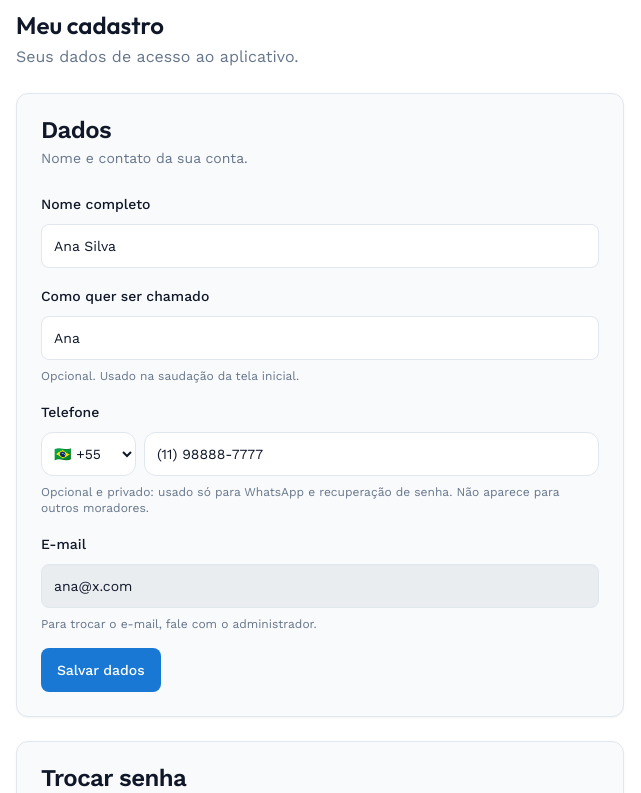
MyProfilePage — dados › não salva sem nome
Clear the field labelled "Nome completo": (320, 246) [41,224,599,268]
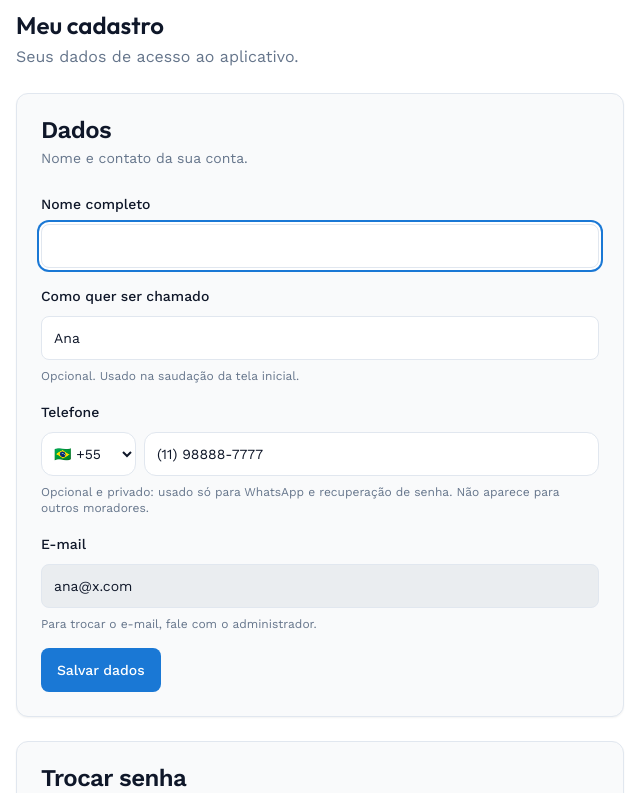
Click the button "Salvar dados": (101, 670) [41,648,161,692]
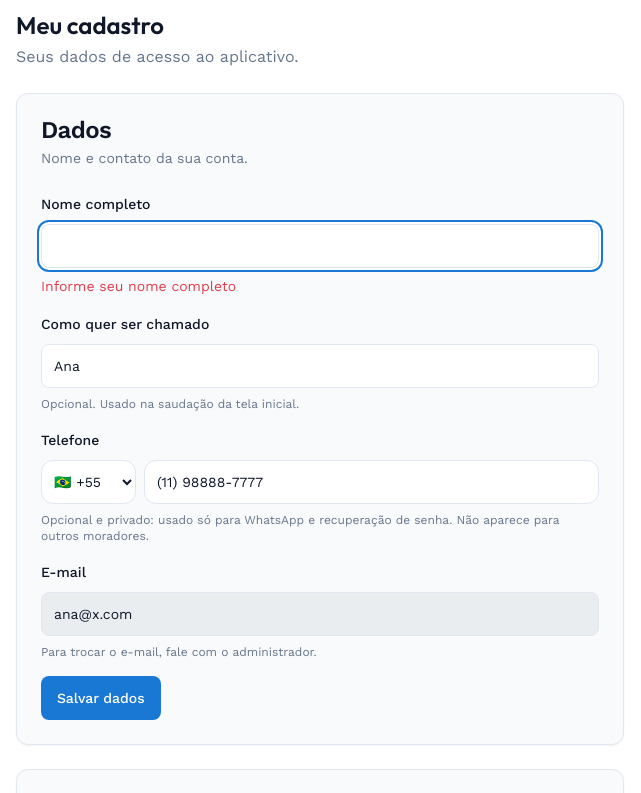
Check: the text "Informe seu nome completo" is shown, box [41,278,236,294]
